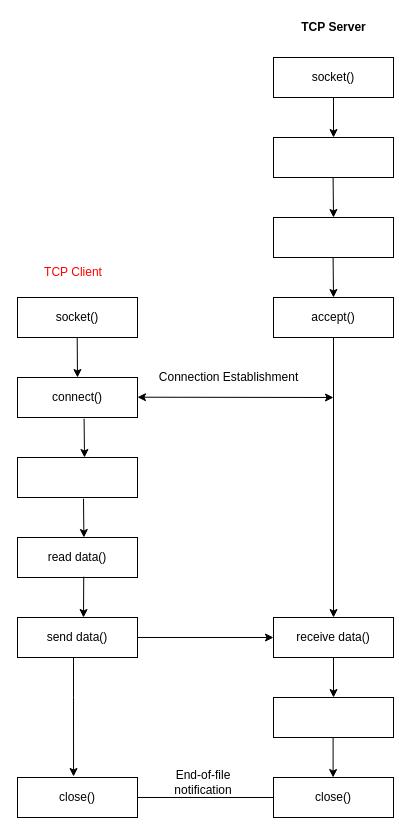
This 411x835 diagram has some shape labels left out. The shapes that lost their labels are listed below. From the top down, each one's box as (x1, y1, x2, y2) in pixels, then its label:
(272, 136, 394, 178): bind()
(272, 216, 394, 258): listen()
(16, 456, 138, 498): open file()
(272, 696, 394, 738): write to file()
